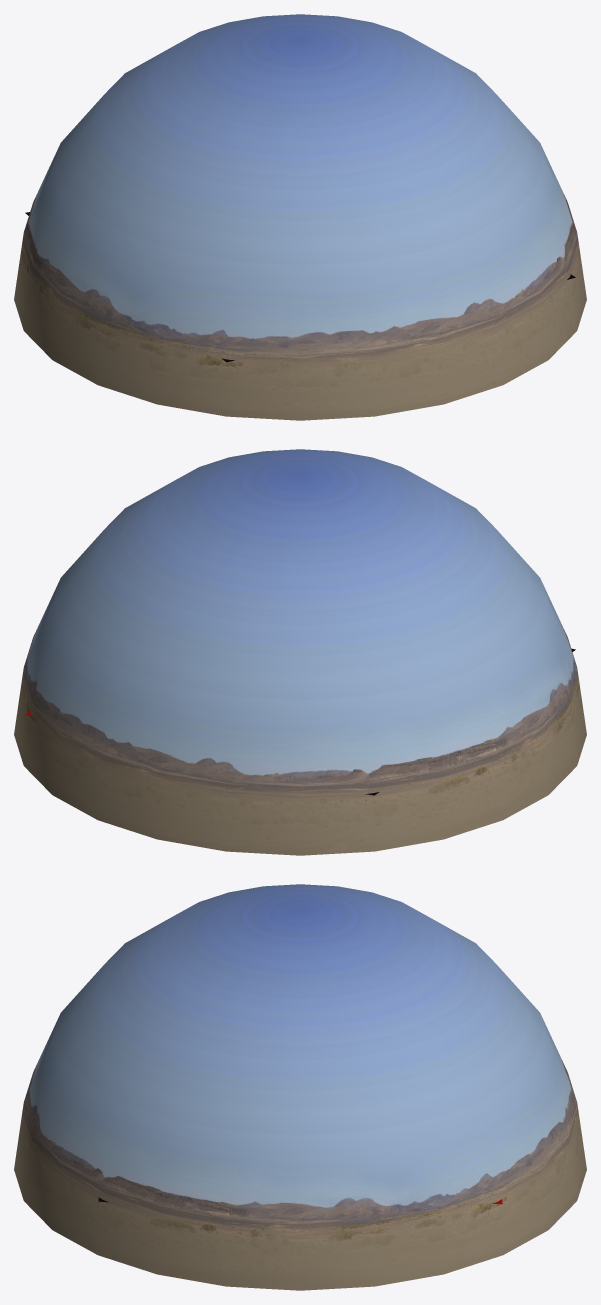
Rendered from map_-_prison_breakout_sniper_escape.glb.
3 renders of one model, top to bottom at view 1: azimuth 30°, elevation 25°; view 2: azimuth 150°, elevation 25°; view 3: azimuth 270°, elevation 25°, orthographic.
Visible parts, largest first — view 1: sky_sphere; view 2: sky_sphere; view 3: sky_sphere.
Boxes of the visible parts, x1,y1,x2,y2 form: sky_sphere: (14, 14, 586, 420); sky_sphere: (14, 449, 586, 855); sky_sphere: (14, 884, 586, 1290).
Bounding box in the file's own units: 1136 × 568 × 1136.
Materials: 4 (4 with a texture image).
